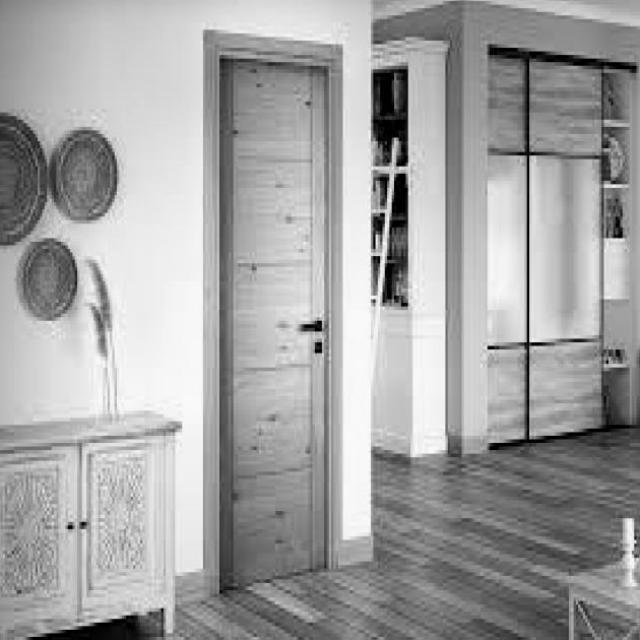door: (218, 56, 329, 589)
